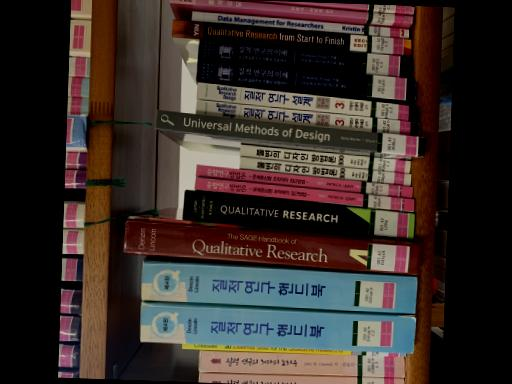book-spine: (123, 219, 420, 273), (140, 302, 415, 353), (141, 261, 416, 311), (154, 108, 424, 154), (182, 191, 414, 236), (196, 58, 416, 98), (171, 17, 411, 53), (196, 81, 417, 120), (197, 37, 411, 76), (196, 98, 419, 135), (195, 163, 412, 197), (194, 176, 414, 209), (192, 10, 408, 37), (199, 350, 405, 376), (169, 0, 412, 21), (239, 156, 411, 184), (240, 143, 410, 171), (182, 342, 405, 355), (198, 371, 405, 384), (291, 1, 413, 12)
